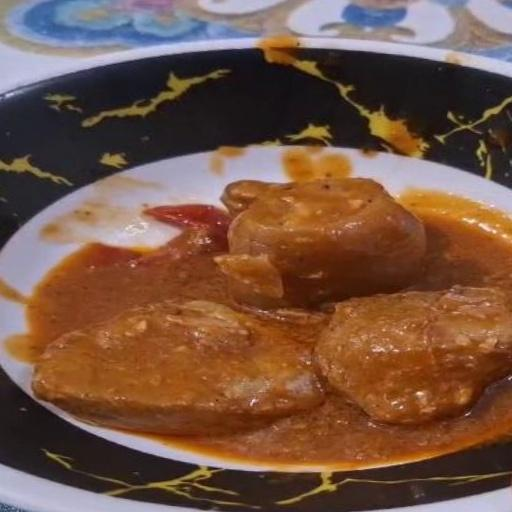pork caldereta: (19, 187, 511, 460)
